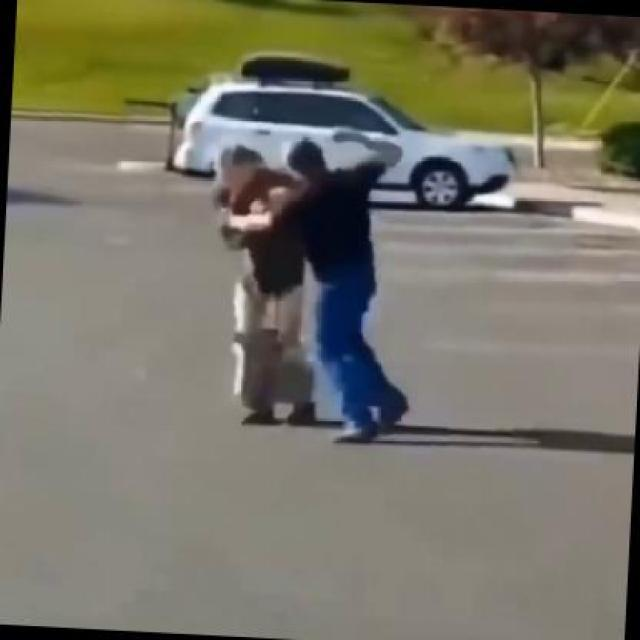fight: (196, 118, 427, 447)
